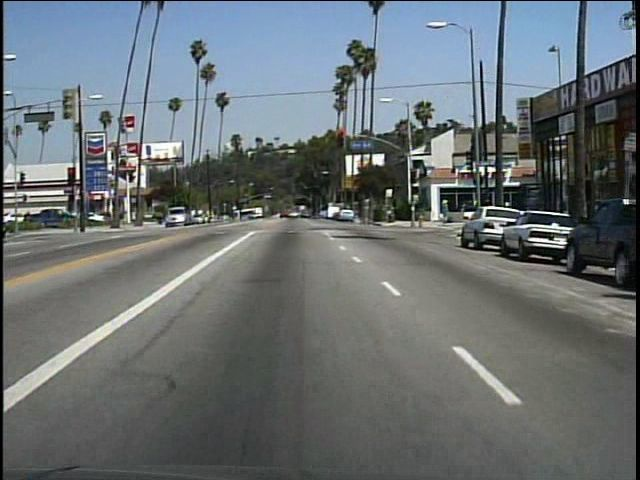person: (438, 197, 453, 226)
